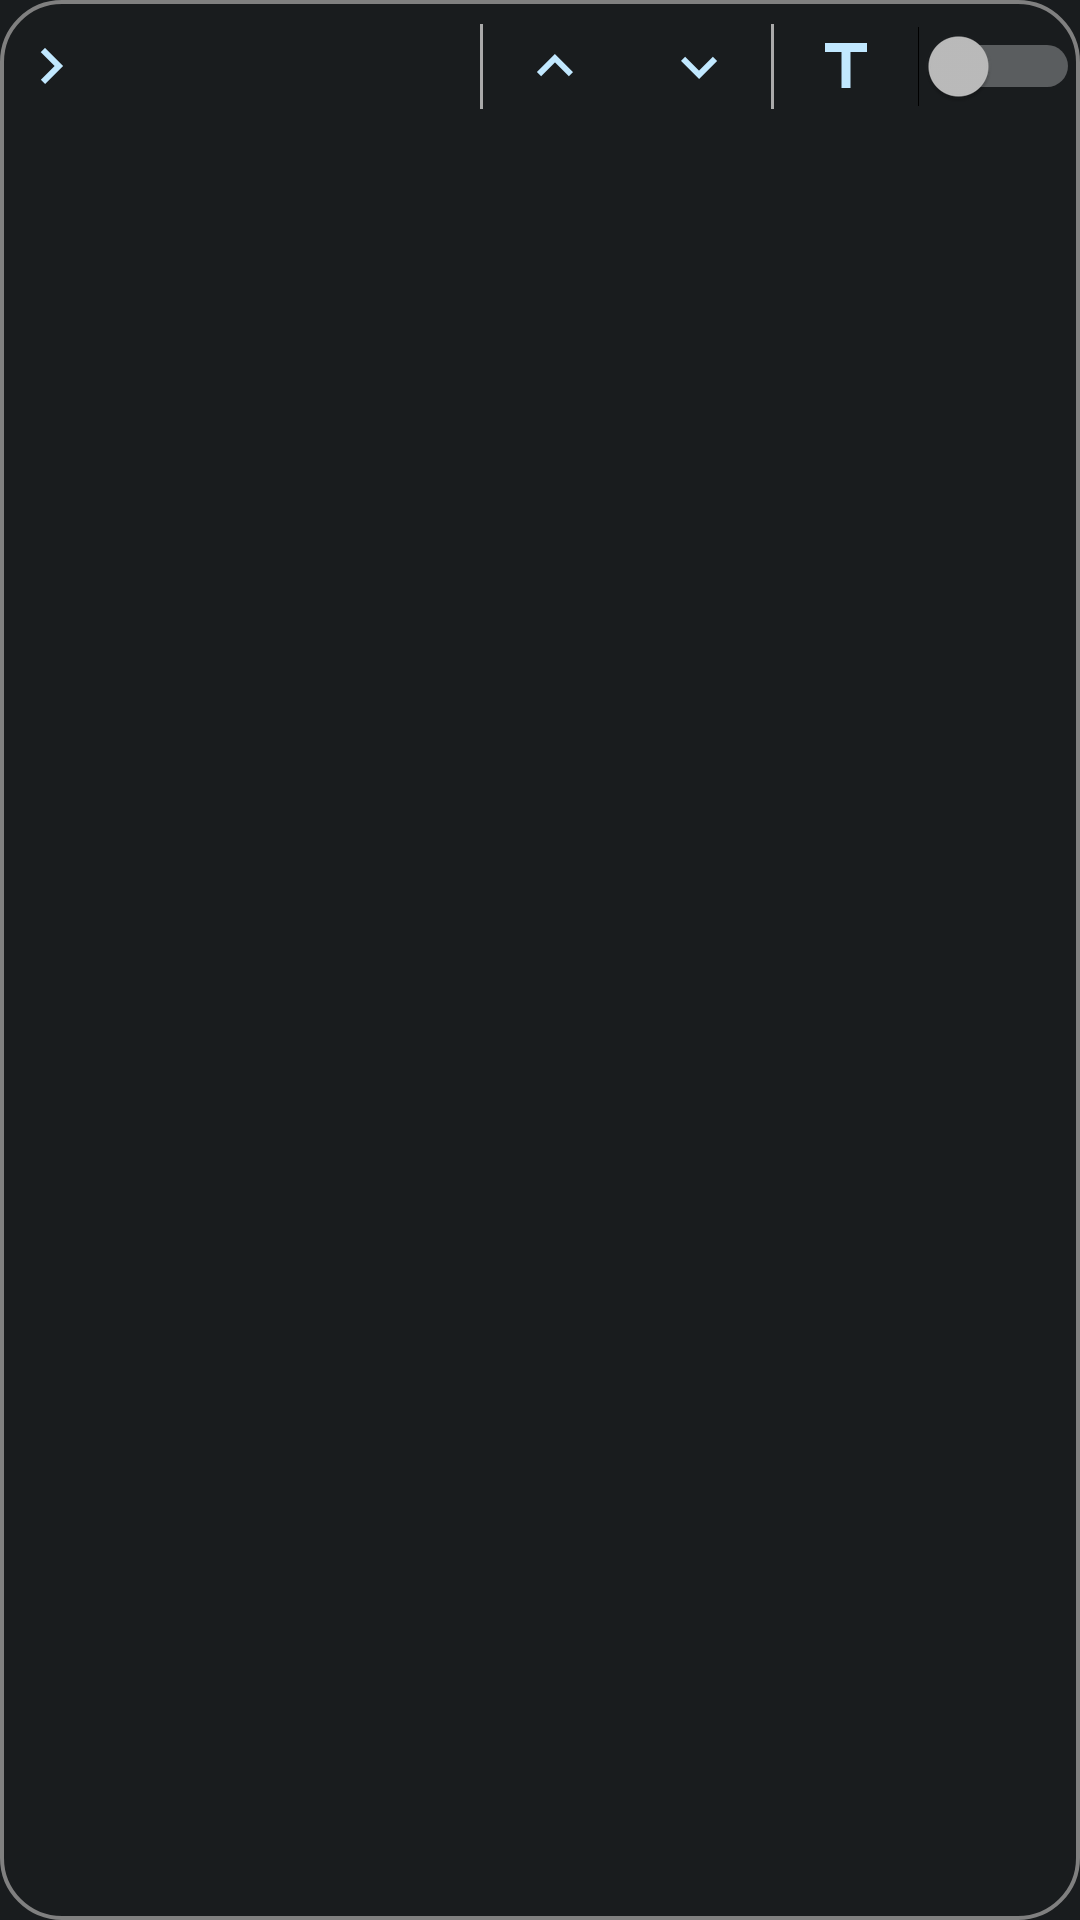

Screen size 1080px×1920px. Icon name, then its center in pixels as (x,y):
Move down: (699,68)
Show/hide title: (846,65)
